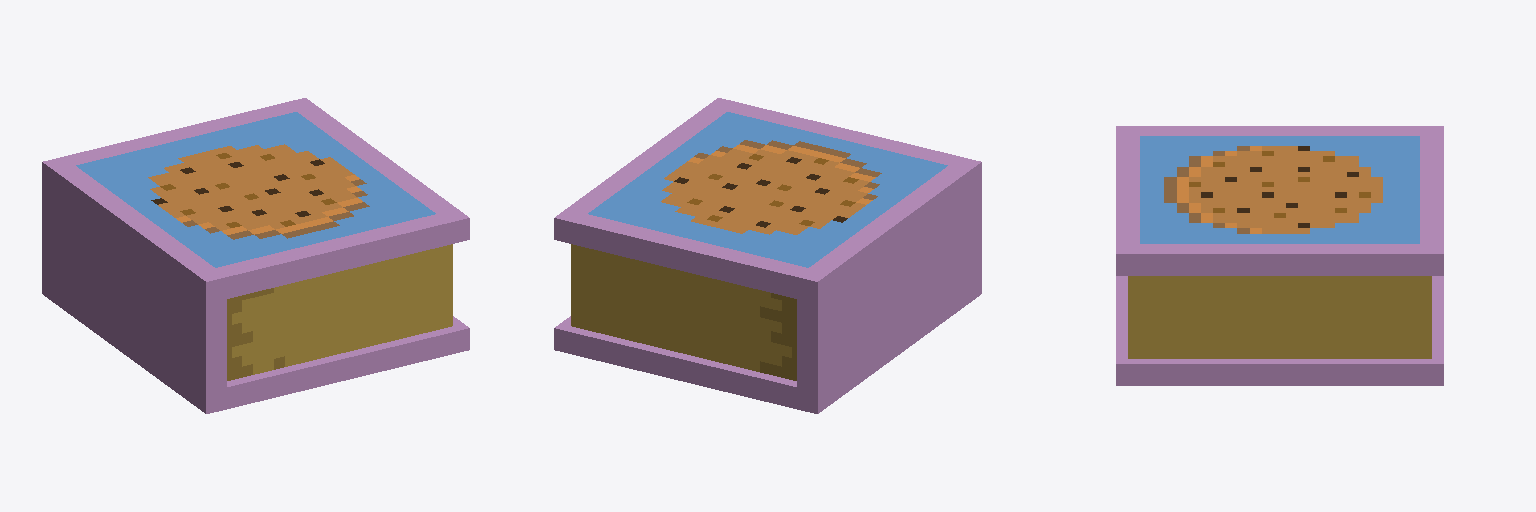
The picture shows the model from 3 angles: view 1: azimuth 30°, elevation 25°; view 2: azimuth 150°, elevation 25°; view 3: azimuth 270°, elevation 25°; orthographic projection.
Parts seen in each view (by area): view 1: object 1; view 2: object 1; view 3: object 1.
Boxes of the visible parts, x1,y1,x2,y2 form: object 1: [42, 98, 469, 413]; object 1: [554, 98, 981, 413]; object 1: [1116, 126, 1443, 385].
Size of the model in its own units: 2.5 by 1.2 by 2.7.
1 materials, 1 textured.